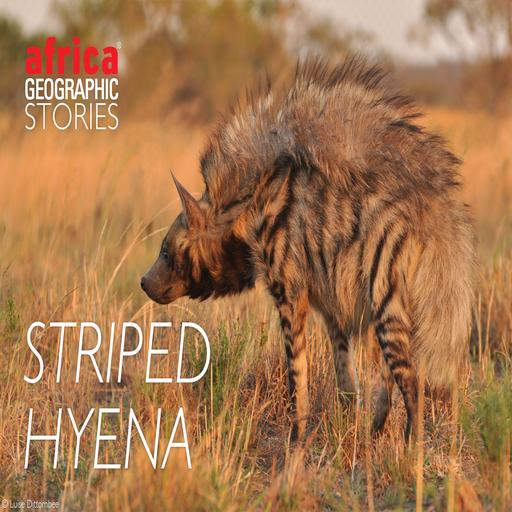Hyena: (134, 50, 486, 489)
